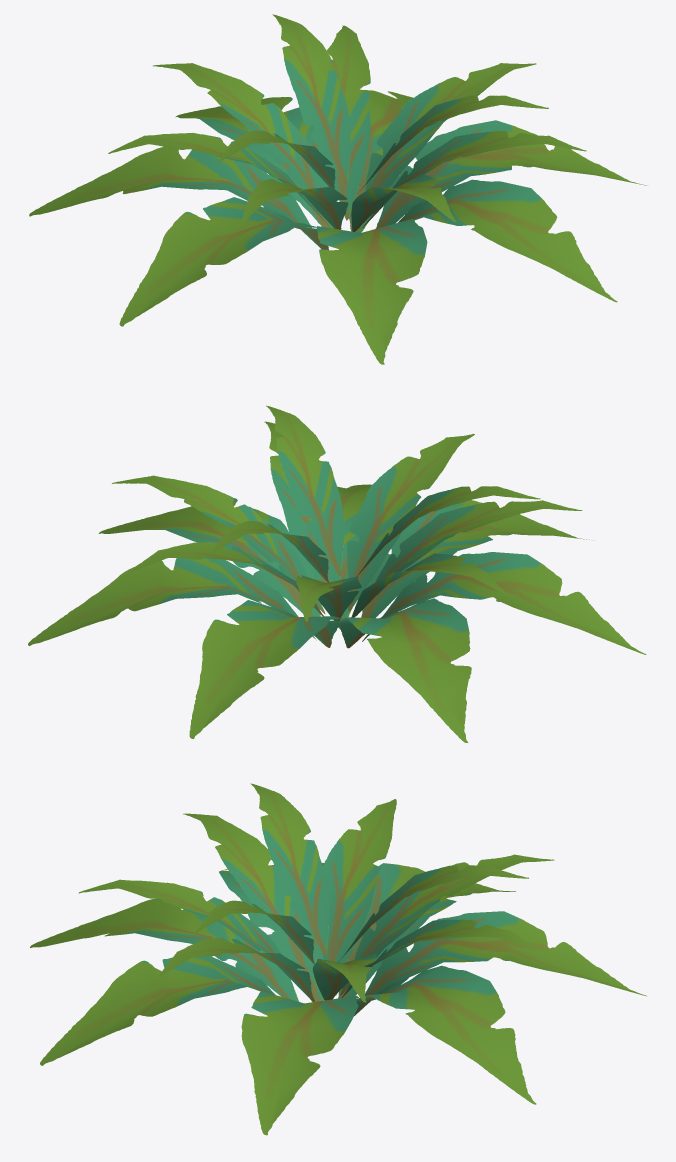
The model's file is MS_Plant1.fbx.
3 renders of one model, top to bottom at view 1: azimuth 30°, elevation 25°; view 2: azimuth 150°, elevation 25°; view 3: azimuth 270°, elevation 25°, orthographic.
Parts seen in each view (by area): view 1: Plant1; view 2: Plant1; view 3: Plant1.
Boxes of the visible parts, x1,y1,x2,y2 form: Plant1: [29, 14, 646, 364]; Plant1: [28, 405, 646, 742]; Plant1: [30, 783, 646, 1135].
Size of the model in its own units: 153 by 46.43 by 151.
